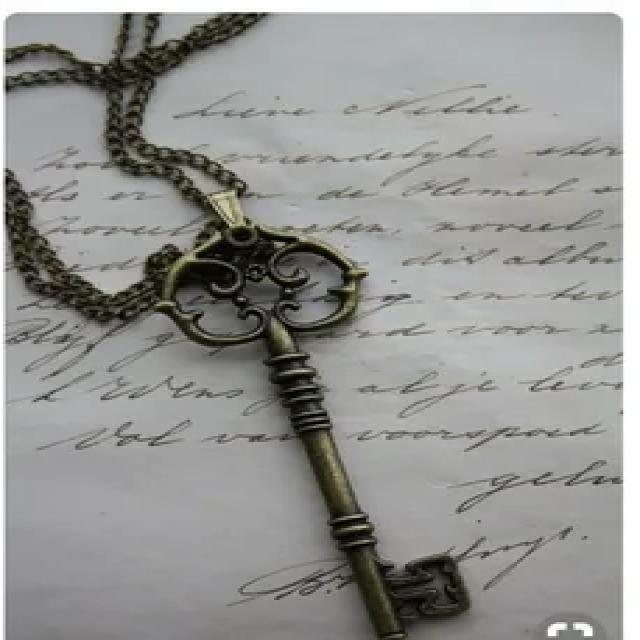key: (160, 207, 515, 640)
